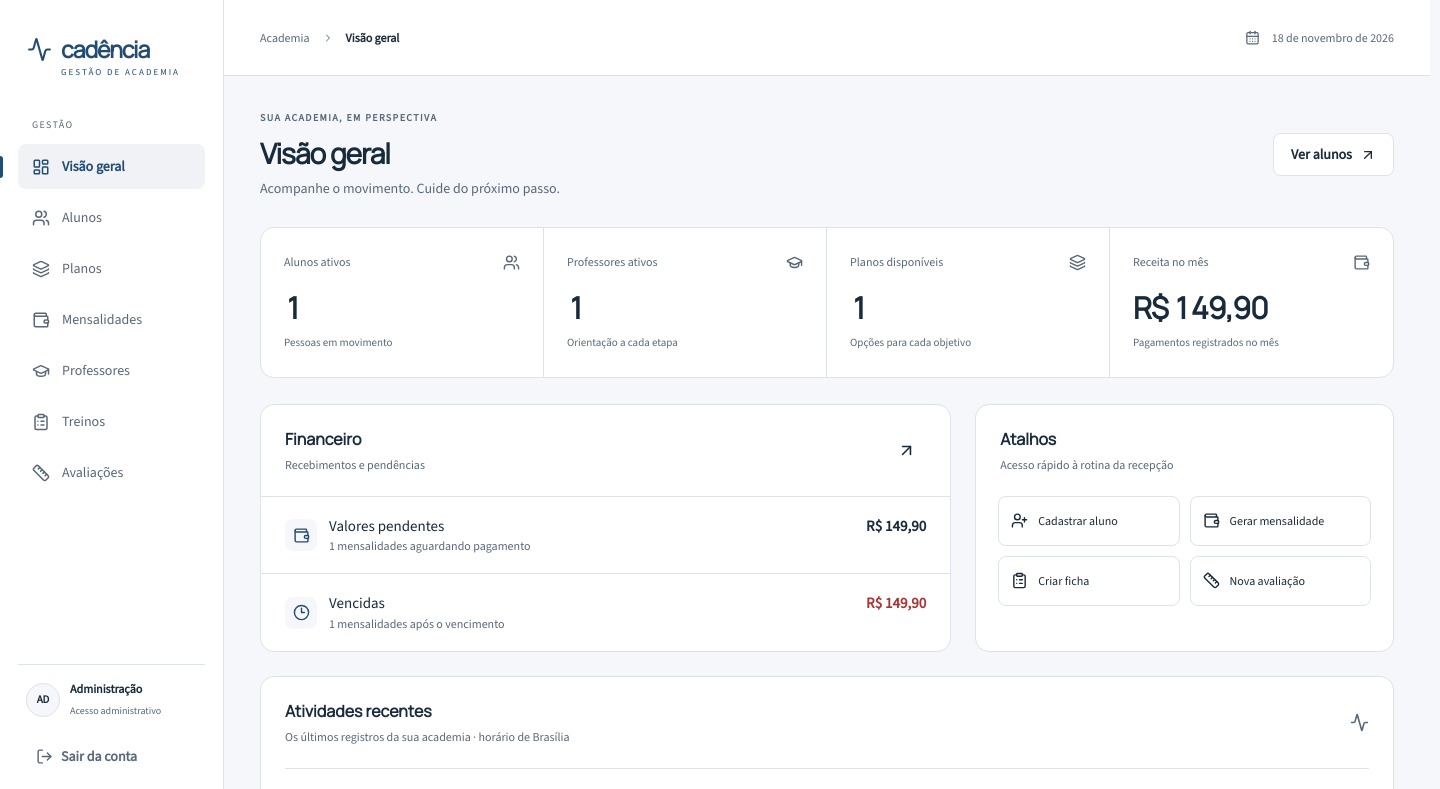
Scenario: preserva página ao reautenticar e informa falha de logout
Check: the heading "Visão geral" is shown, box [260,134,390,172]
Step 1. Click the button "Sair da conta" → (112, 756), box [18,735,205,778]
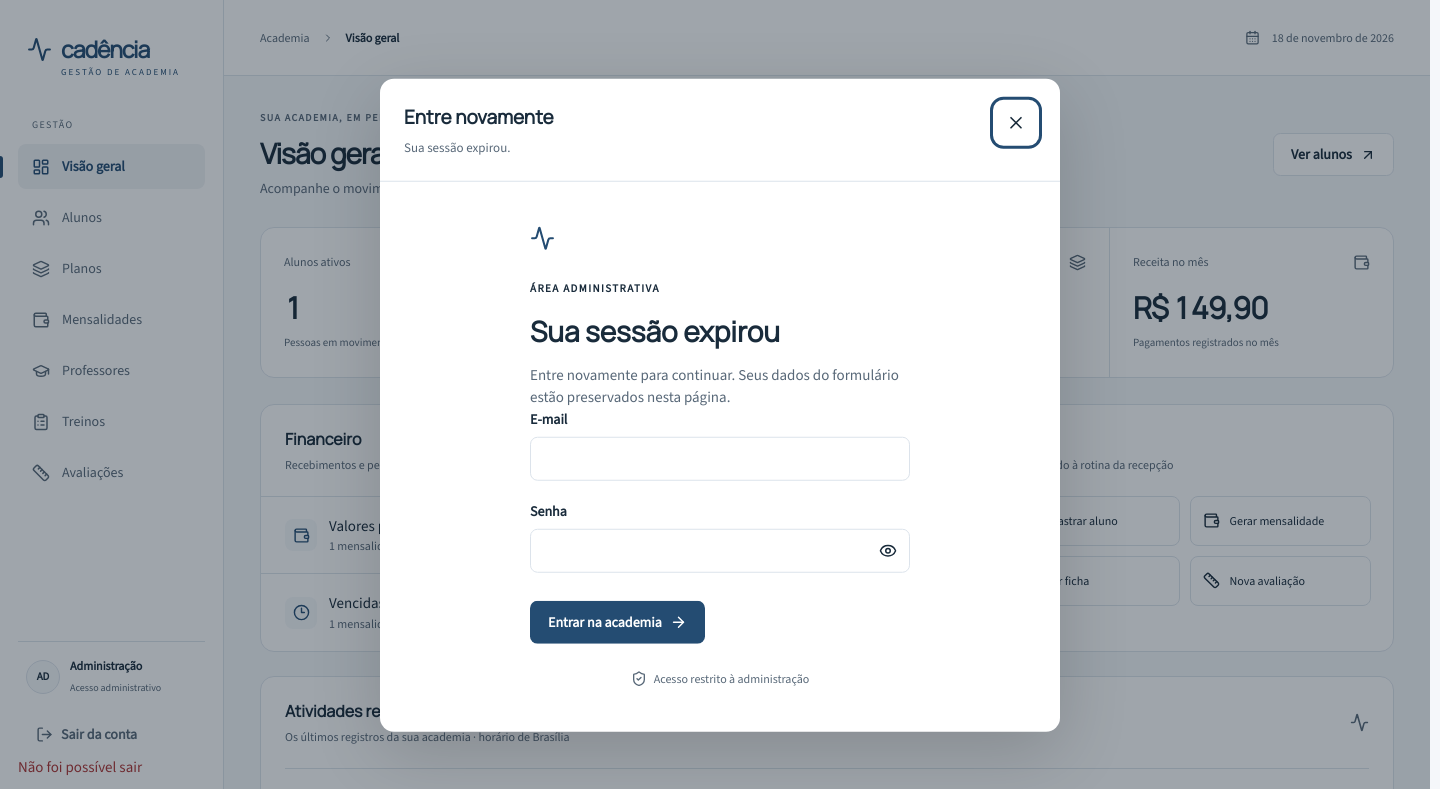
Check: the text "Não foi possível sair" is shown, box [18,756,142,776]
Check: the heading "Sua sessão expirou" is shown, box [530,311,780,349]
Step 2. Type "admin@example.test" into the field labelled "E-mail" → (720, 458), box [530,436,910,480]
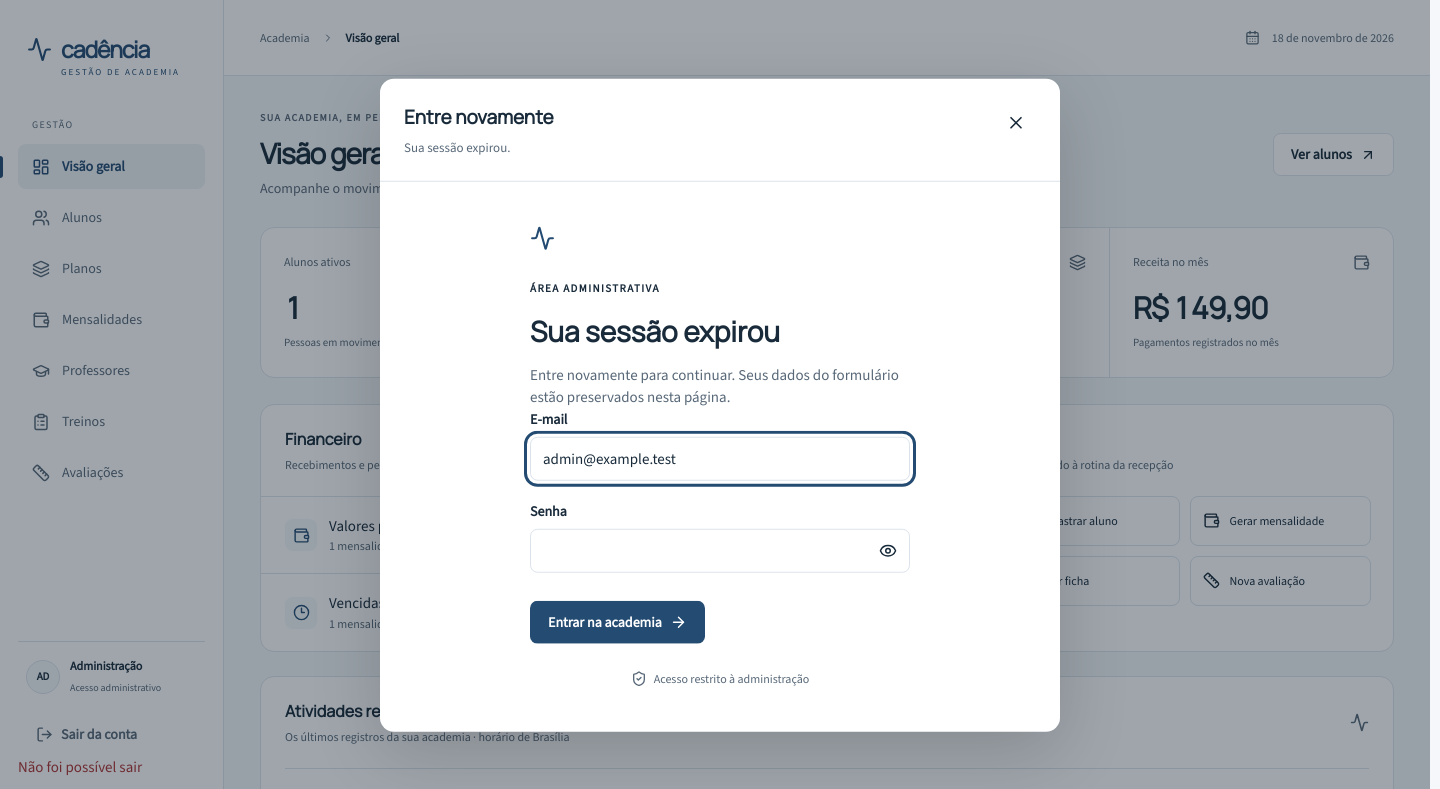
Step 3. Type "Test-password" into the password field labelled "Senha" → (720, 550), box [530,528,910,572]
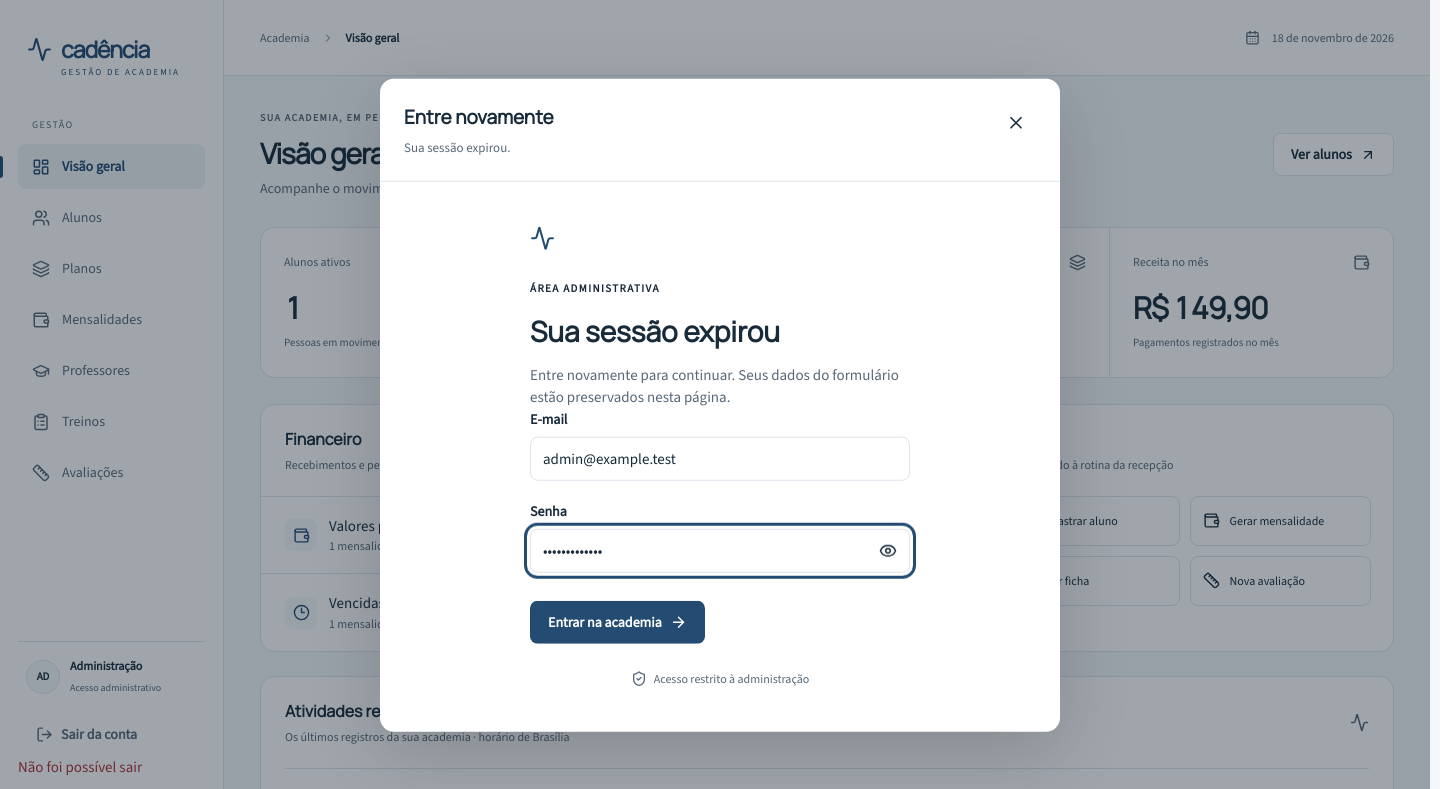
Step 4. Click the button "Entrar na academia" → (617, 622), box [530,600,705,643]
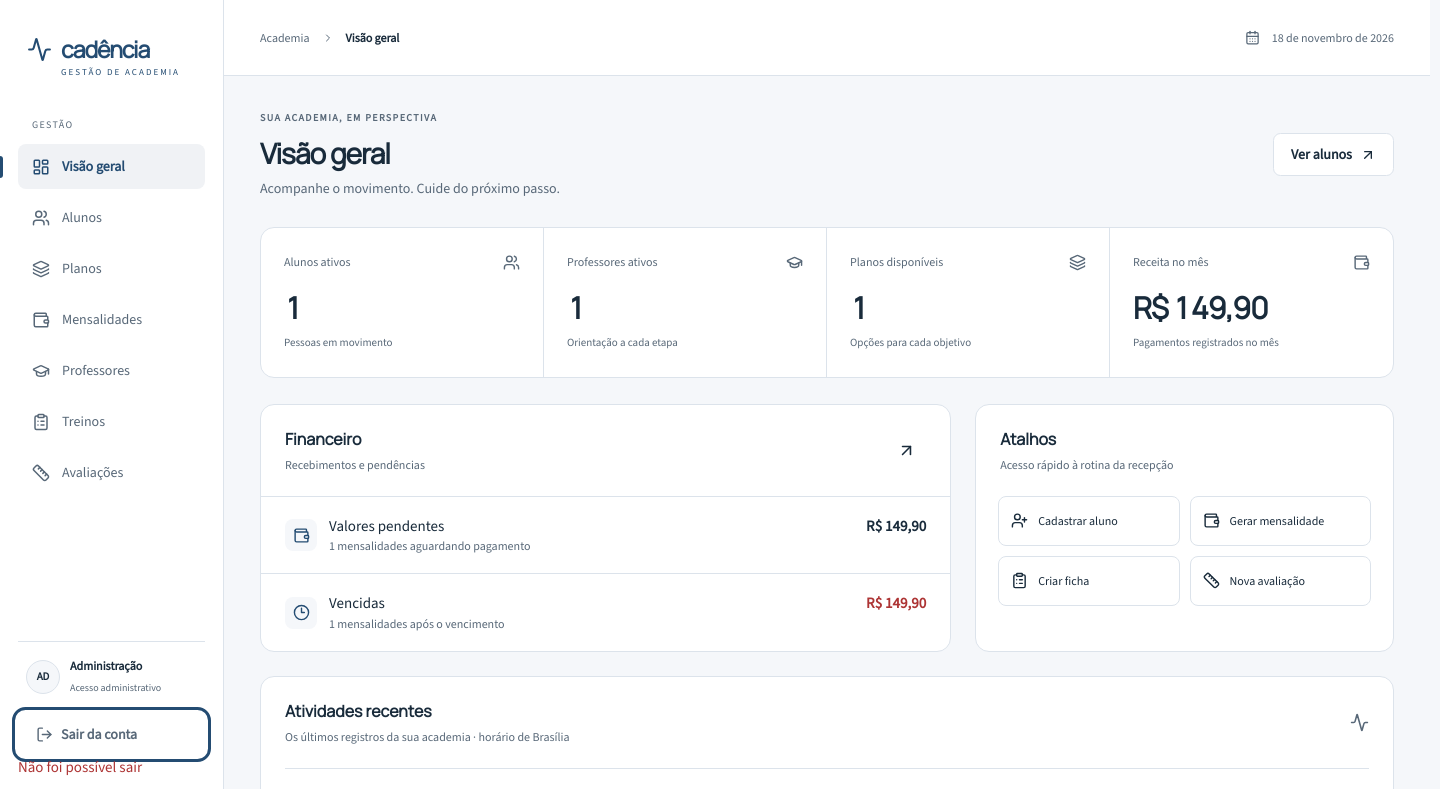
Check: the dialog is gone
